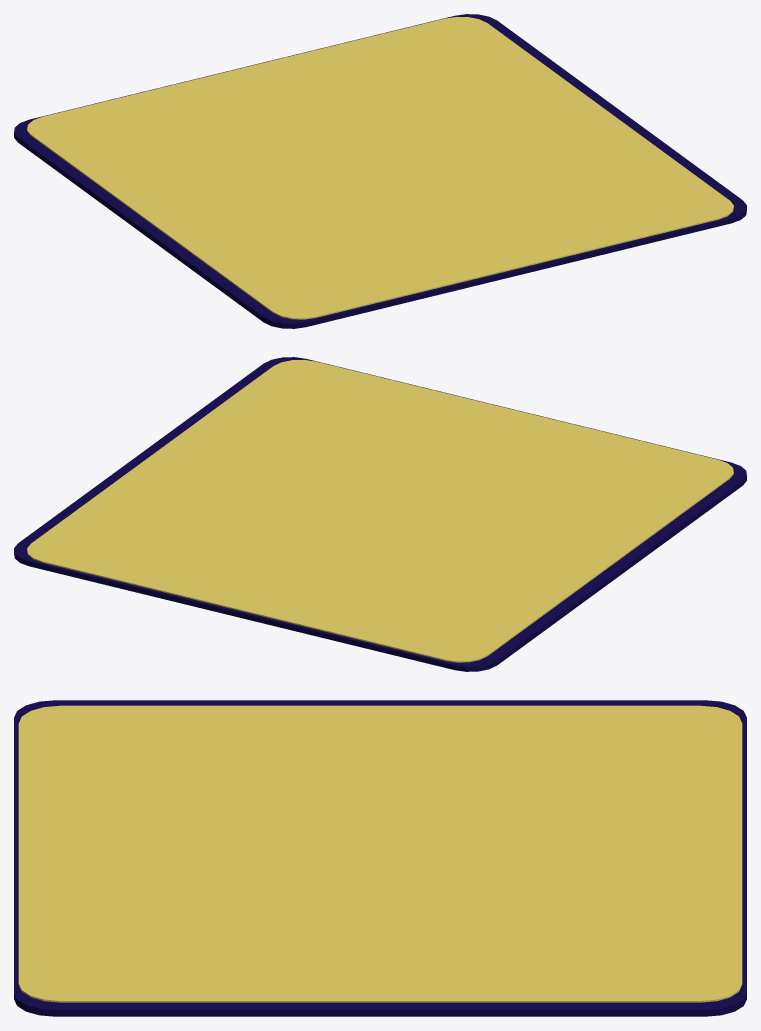
Rendered from Passport.glb.
The picture shows the model from 3 angles, top to bottom: view 1: azimuth 30°, elevation 25°; view 2: azimuth 150°, elevation 25°; view 3: azimuth 270°, elevation 25°; orthographic projection. The views are drawn at different scales.
Visible parts, largest first — view 1: PageLeft, PageRight, CoverLeft, CoverRight; view 2: PageLeft, PageRight, CoverLeft, CoverRight; view 3: PageRight, PageLeft, CoverRight, CoverLeft.
Boxes of the visible parts, bbox=[...] form: PageLeft: bbox=[27, 67, 516, 319]; PageRight: bbox=[244, 17, 733, 268]; CoverLeft: bbox=[14, 67, 518, 328]; CoverRight: bbox=[242, 14, 746, 275]; PageLeft: bbox=[244, 410, 733, 662]; PageRight: bbox=[27, 360, 516, 611]; CoverLeft: bbox=[242, 410, 746, 671]; CoverRight: bbox=[14, 357, 518, 618]; PageRight: bbox=[18, 853, 742, 1002]; PageLeft: bbox=[18, 705, 742, 853]; CoverRight: bbox=[14, 855, 746, 1016]; CoverLeft: bbox=[14, 700, 746, 855].
Size of the model in its own units: 2 by 0.0255 by 2.
